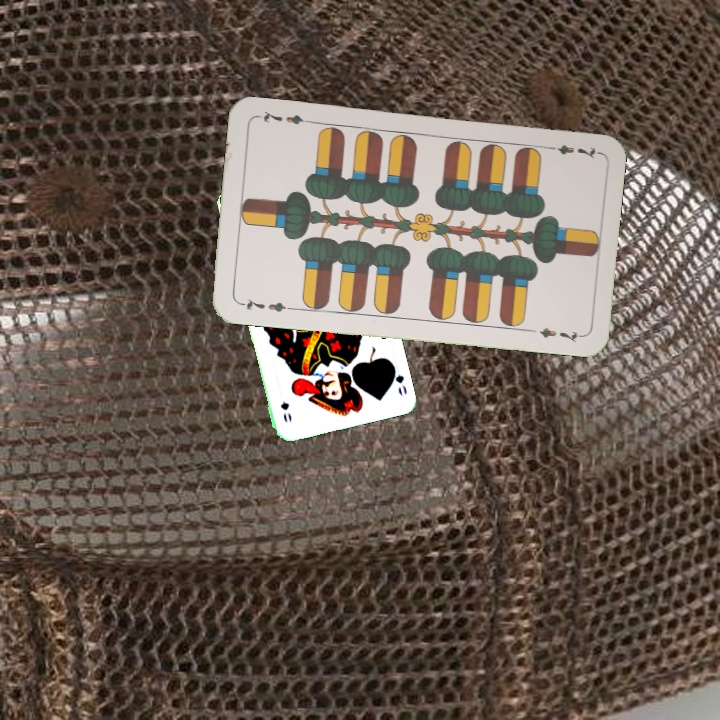E7: (235, 295, 294, 315), (541, 141, 600, 161)
GO: (387, 359, 409, 398)
